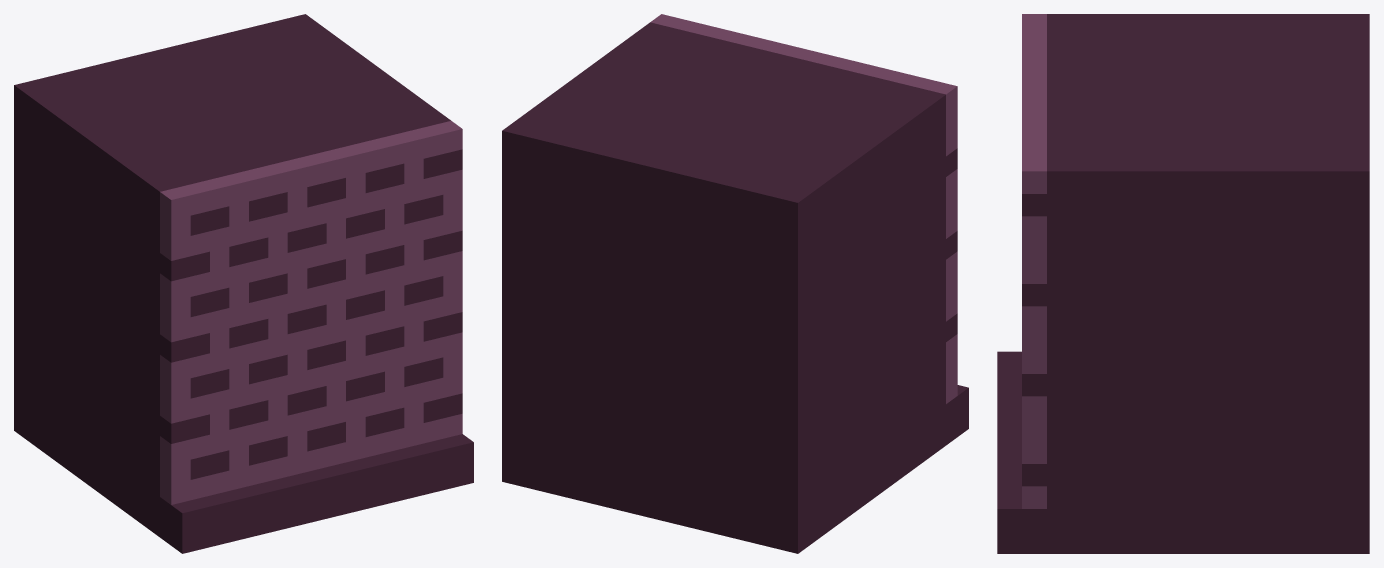
The model's file is dungeon_c_b_outer_wall_segment_a.obj.
3 views of the same model, side by side, from view 1: azimuth 30°, elevation 25°; view 2: azimuth 150°, elevation 25°; view 3: azimuth 270°, elevation 25° (orthographic). The views are drawn at different scales.
Bounding box in the file's own units: 1.5 × 1.7 × 1.5.
1 material, 1 textured.
